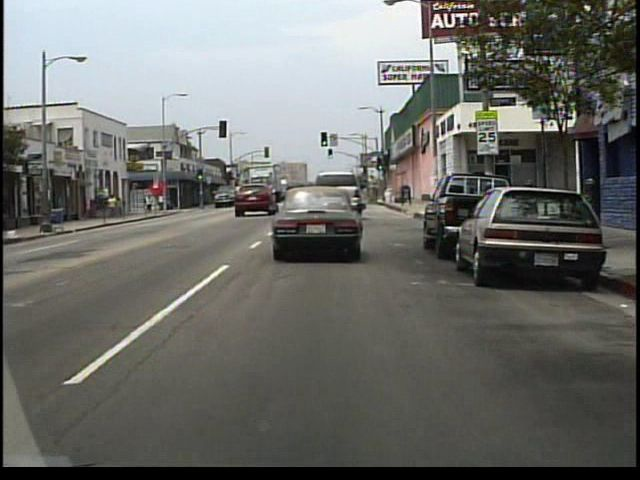person: (109, 194, 118, 220), (146, 195, 155, 215), (118, 196, 125, 218)
